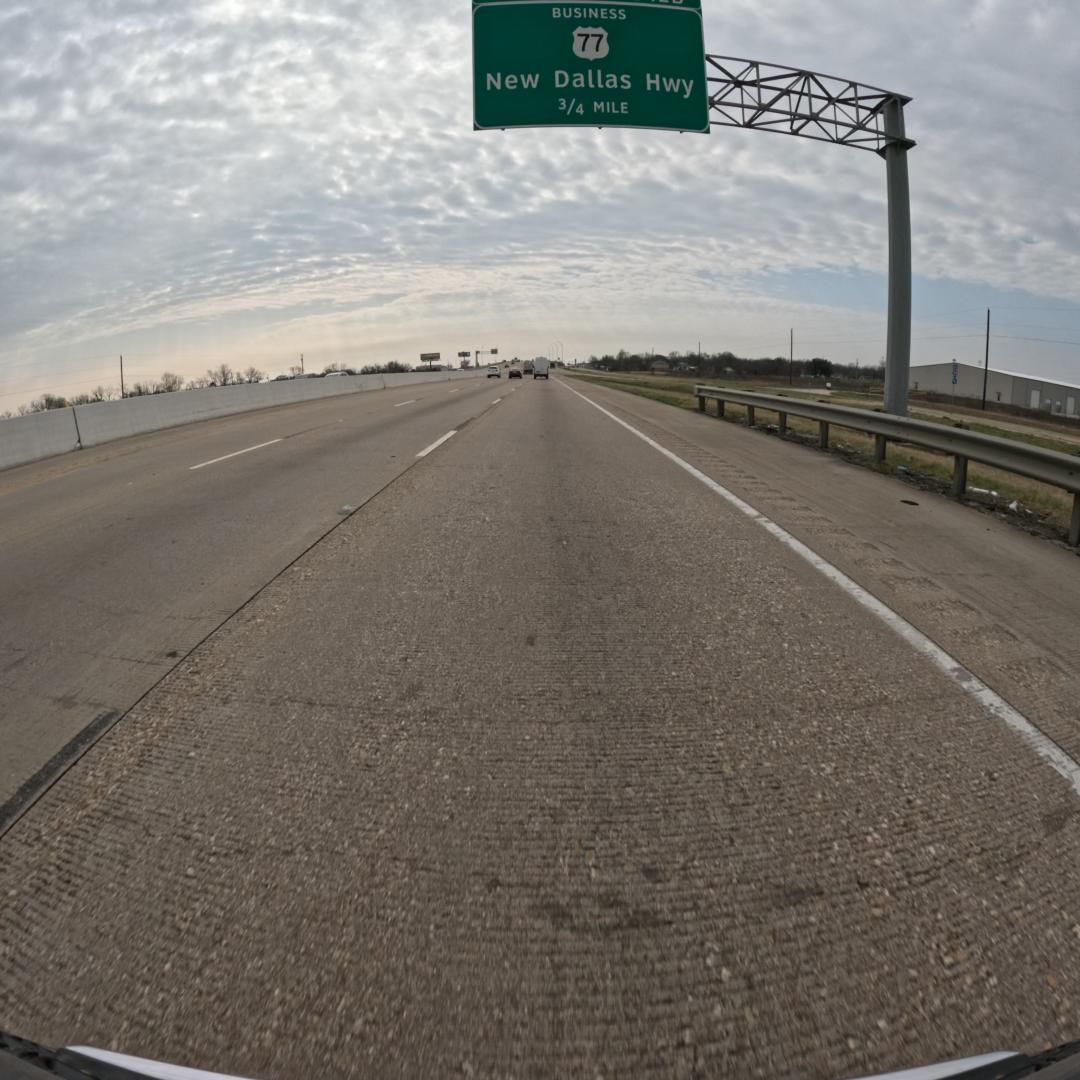lane0: (0, 381, 1080, 1077)
lane1: (0, 381, 512, 836)
